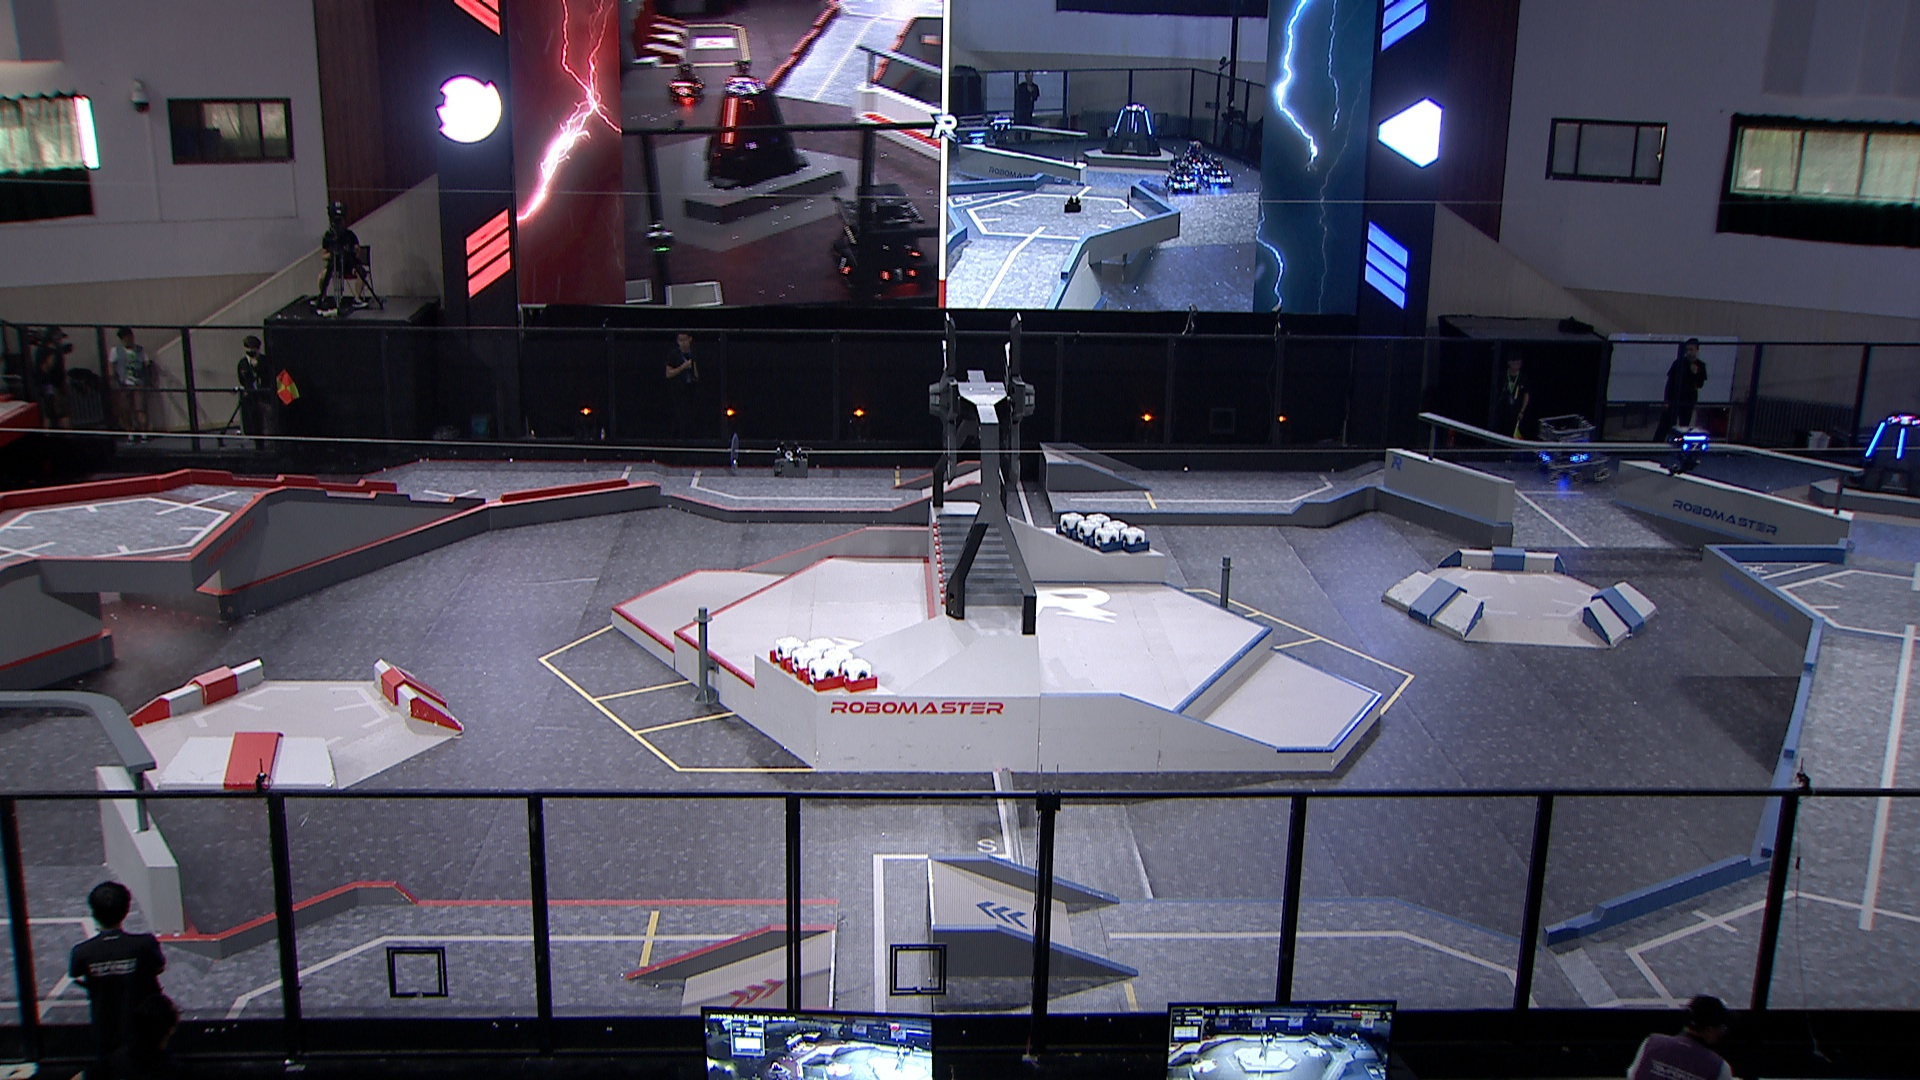armor: (1863, 418, 1887, 455), (1894, 429, 1907, 458), (1565, 450, 1586, 465), (1683, 442, 1704, 452), (1528, 450, 1545, 462)
base: (1841, 401, 1920, 498)
car: (1524, 410, 1614, 484)
ignore: (825, 181, 940, 301), (702, 73, 803, 195), (1098, 102, 1162, 158), (666, 58, 708, 107), (1192, 150, 1236, 189), (1178, 138, 1220, 177), (1159, 162, 1200, 196), (1888, 413, 1920, 429)
watcher: (1662, 423, 1713, 475)
